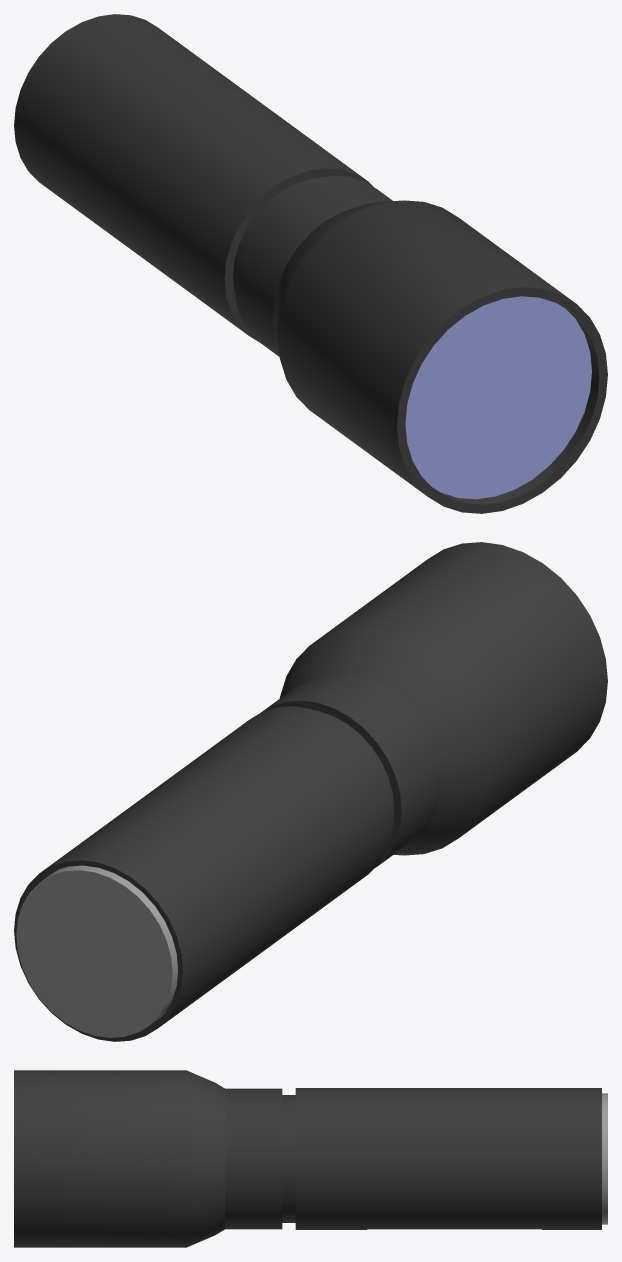
The model's file is ブラックライト.fbx.
3 views of the same model, one above another, from view 1: azimuth 30°, elevation 25°; view 2: azimuth 150°, elevation 25°; view 3: azimuth 270°, elevation 25° (orthographic). The views are drawn at different scales.
Parts seen in each view (by area): view 1: 円柱, 円柱.002; view 2: 円柱, 円柱.001; view 3: 円柱, 円柱.001.
Boxes of the visible parts, bbox=[...] form: 円柱: bbox=[14, 14, 607, 513]; 円柱.002: bbox=[405, 296, 591, 499]; 円柱: bbox=[14, 542, 607, 1041]; 円柱.001: bbox=[16, 865, 178, 1037]; 円柱: bbox=[14, 1070, 601, 1247]; 円柱.001: bbox=[602, 1093, 607, 1224].
Bounding box in the file's own units: 76.14 × 76.14 × 255.
